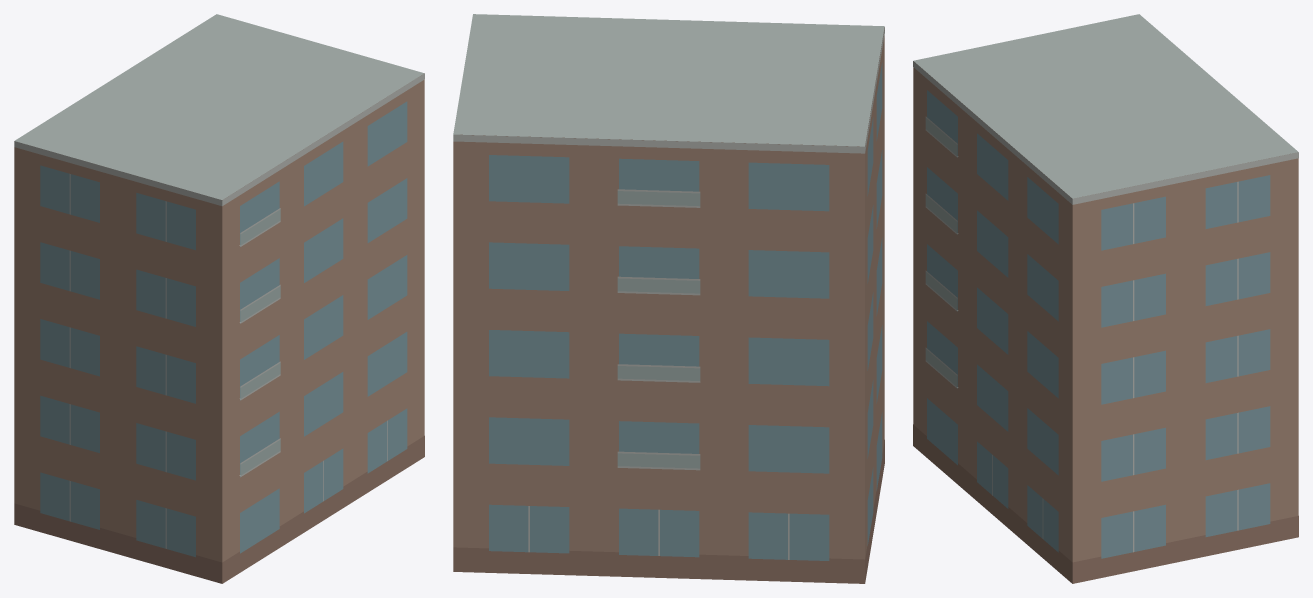
File: residential-a189d4d1-74f2-4ede-8427-e9416050b34b.glb
3 views of the same model, side by side, from view 1: azimuth 30°, elevation 25°; view 2: azimuth 150°, elevation 25°; view 3: azimuth 270°, elevation 25° (orthographic). The views are drawn at different scales.
Visible parts, largest first — view 1: residential-a189d4d1-74f2-4ede-8427-e9416050b34b.tmp; view 2: residential-a189d4d1-74f2-4ede-8427-e9416050b34b.tmp; view 3: residential-a189d4d1-74f2-4ede-8427-e9416050b34b.tmp.
Boxes of the visible parts, x1,y1,x2,y2 form: residential-a189d4d1-74f2-4ede-8427-e9416050b34b.tmp: (14, 14, 424, 583); residential-a189d4d1-74f2-4ede-8427-e9416050b34b.tmp: (453, 14, 884, 583); residential-a189d4d1-74f2-4ede-8427-e9416050b34b.tmp: (913, 14, 1298, 583).
Bounding box in the file's own units: 15.7 × 15.25 × 13.85.
